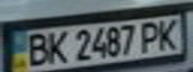2: (69, 26, 93, 62)
4: (90, 25, 109, 60)
7: (118, 21, 139, 55)
8: (106, 24, 124, 57)
B: (21, 30, 51, 68)
K: (154, 16, 184, 51), (42, 28, 69, 65)
P: (136, 19, 163, 53)
